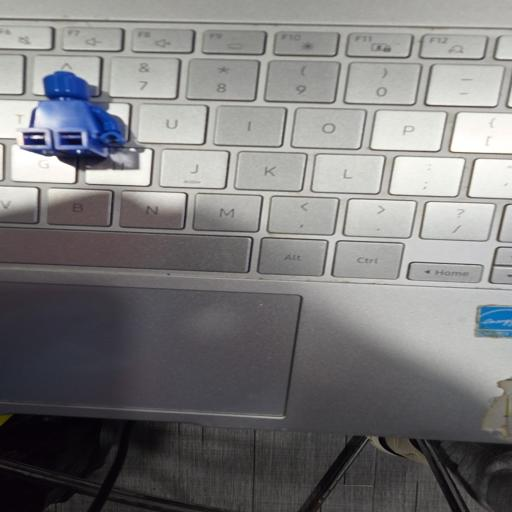Blue: (17, 71, 125, 158)
